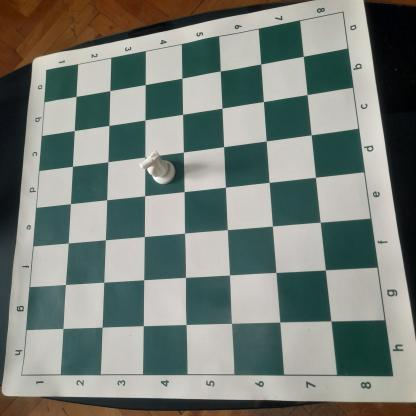white-knight: (138, 150, 177, 186)
